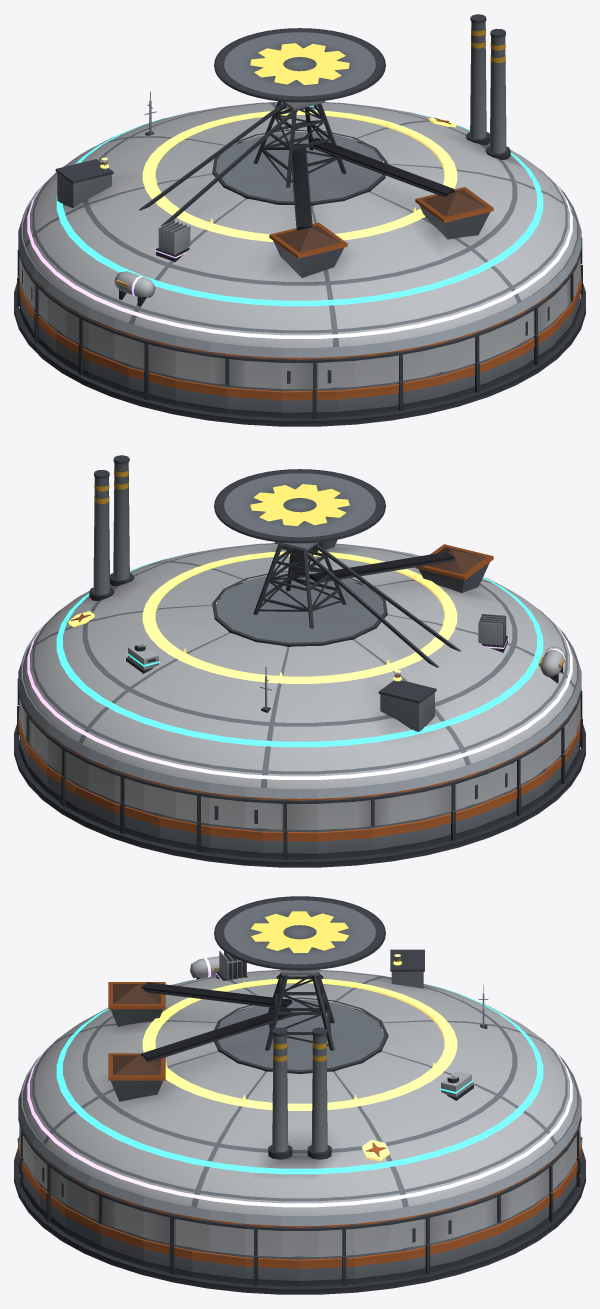
The model's file is mine_xl_far.glb.
The picture shows the model from 3 angles, top to bottom: view 1: azimuth 30°, elevation 25°; view 2: azimuth 150°, elevation 25°; view 3: azimuth 270°, elevation 25°; orthographic projection.
Parts seen in each view (by area): view 1: Roof, Base, L2, L5, L4, L3; view 2: Roof, Base, L2, L5, L3, L4; view 3: Roof, Base, L2, L5, L3, L4.
Boxes of the visible parts, x1,y1,x2,y2 form: Roof: [17, 14, 582, 389]; Base: [14, 156, 585, 426]; L2: [18, 91, 581, 357]; L5: [100, 110, 457, 241]; L4: [27, 178, 572, 338]; L3: [56, 104, 543, 306]; Roof: [17, 455, 582, 830]; Base: [14, 597, 585, 867]; L2: [18, 617, 581, 798]; L5: [68, 550, 457, 683]; L3: [56, 552, 543, 747]; L4: [27, 613, 572, 779]; Roof: [18, 896, 581, 1256]; Base: [14, 1025, 585, 1294]; L2: [18, 985, 581, 1225]; L5: [142, 954, 457, 1161]; L3: [56, 979, 543, 1174]; L4: [27, 950, 572, 1207].
Size of the model in its own units: 23.15 by 10.79 by 23.15.
